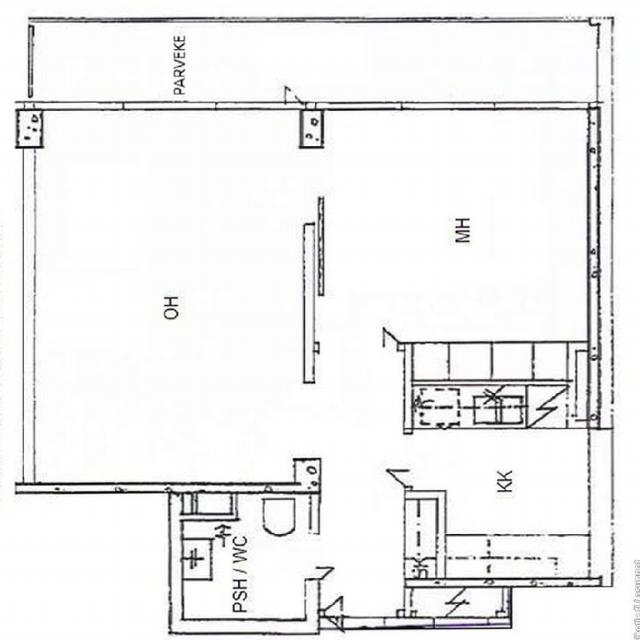door: (324, 545, 399, 628), (319, 272, 398, 350), (222, 34, 298, 108), (346, 433, 412, 485), (310, 533, 371, 579)
